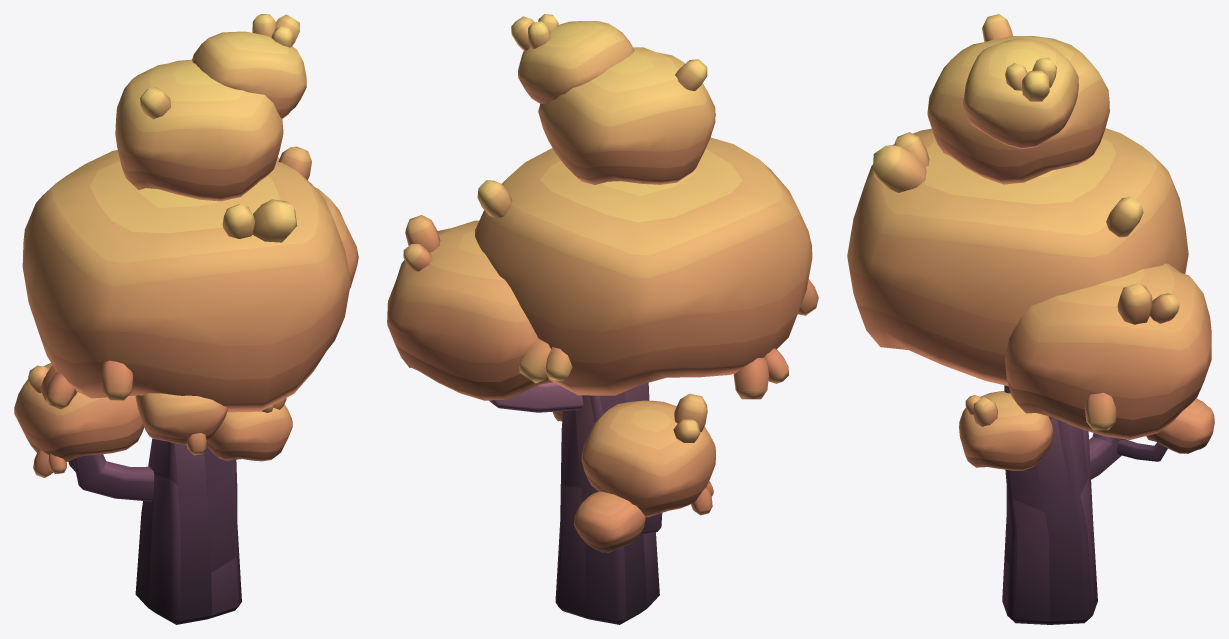
File: grassland_tree_col2_8.fbx
The picture shows the model from 3 angles, left to right: view 1: azimuth 30°, elevation 25°; view 2: azimuth 150°, elevation 25°; view 3: azimuth 270°, elevation 25°; orthographic projection. The views are drawn at different scales.
Visible parts, largest first — view 1: grassland_tree_col2_8; view 2: grassland_tree_col2_8; view 3: grassland_tree_col2_8.
Part boxes in pixels (x1,y1,x2,y2): grassland_tree_col2_8: (14,14,358,624); grassland_tree_col2_8: (387,14,818,624); grassland_tree_col2_8: (847,14,1214,624).
Bounding box in the file's own units: 945 × 1486 × 845.
